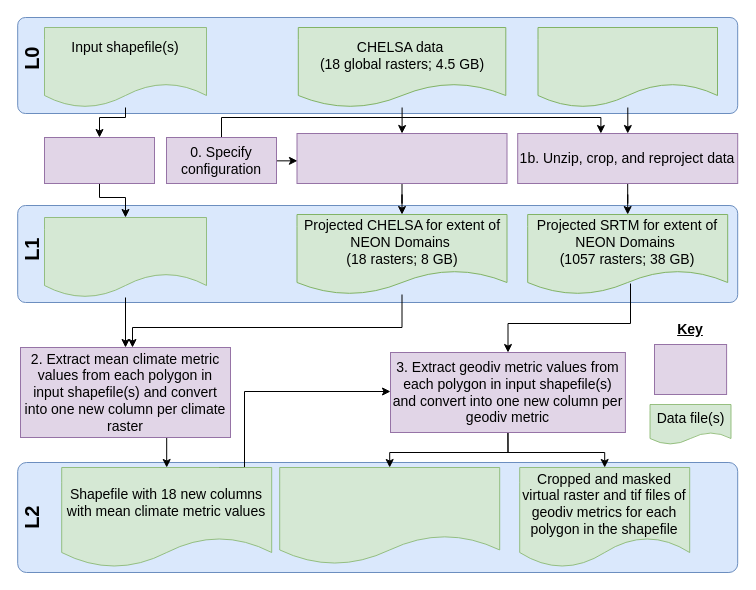
Image size: 756x590. Some labels were removed from this diagram. Here are the shapes that lost their labels. From the top down, the box of each, then its label:
(537, 26, 718, 108): SRTM data (14297 zipped tiles; 98 GB )
(44, 136, 154, 184): 1a. Clean spatial data
(296, 132, 507, 184): 1a. Crop and reproject data
(44, 217, 206, 297): Cleaned spatial data
(654, 344, 727, 394): R Script
(279, 467, 500, 564): Shapefile with one new columns for each geodiv metric
